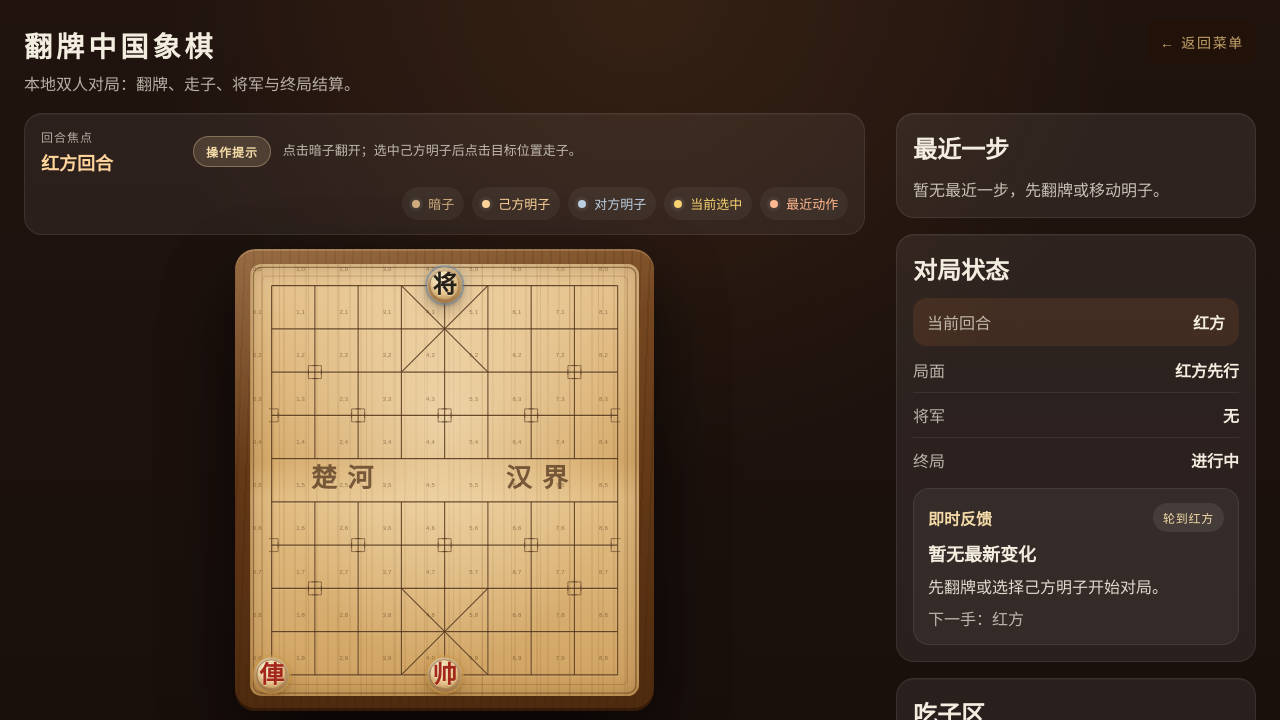
Test: interaction feedback › keeps rule-engine errors visible for illegal moves
What coordinates should you click on to do the following:
click the button with test id "cell-0-0"
I would click on:
 (272, 285)
Its box is [250, 264, 293, 307].
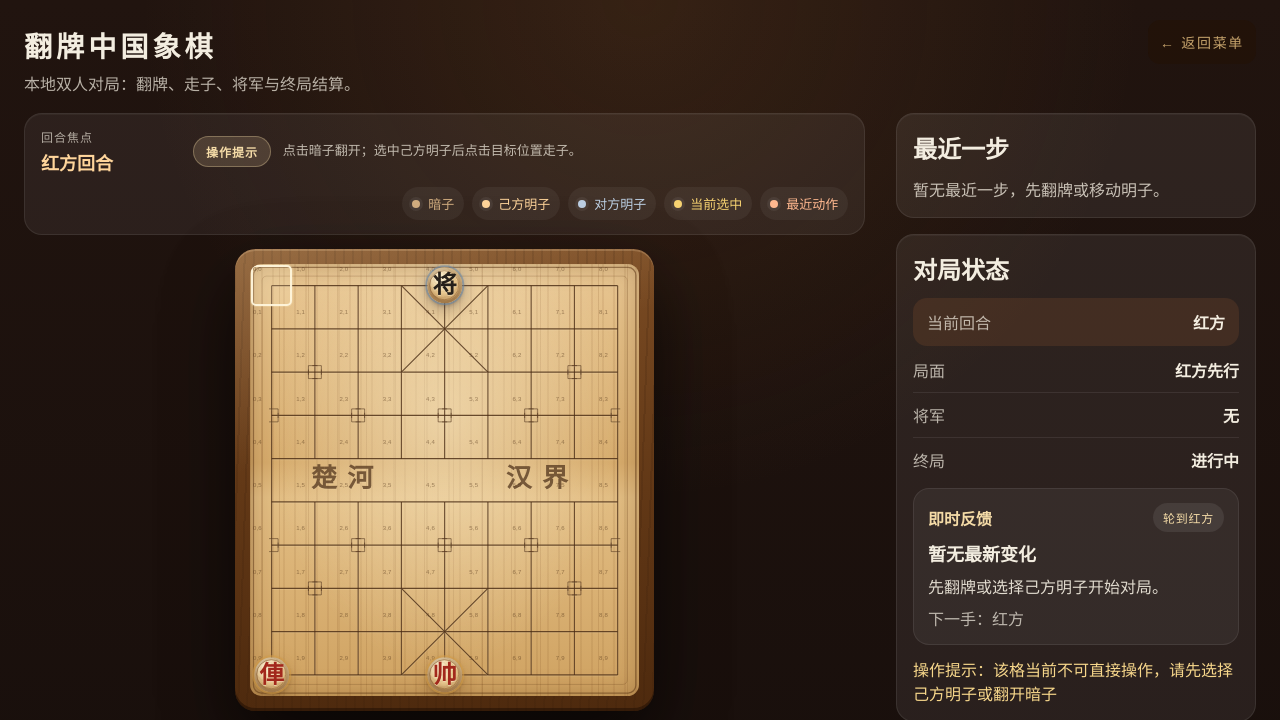
Expected: the text "操作提示：该格当前不可直接操作，请先选择己方明子或翻开暗子" is shown, [913, 657, 1239, 705]
What coordinates should you click on to do the following:
click the button with test id "cell-0-9"
I would click on:
 (272, 675)
Its box is [250, 653, 293, 696].
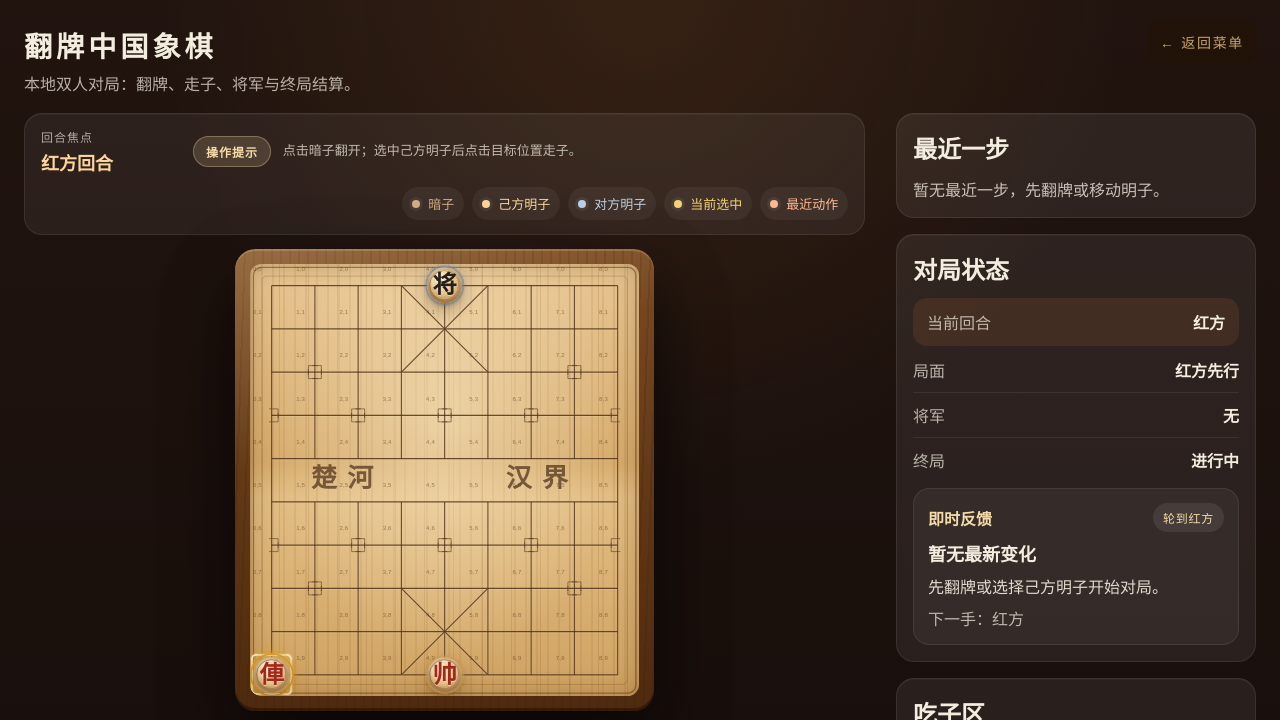
What coordinates should you click on to do the following:
click the button with test id "cell-1-8"
I would click on:
 (315, 631)
Its box is [293, 610, 336, 653].
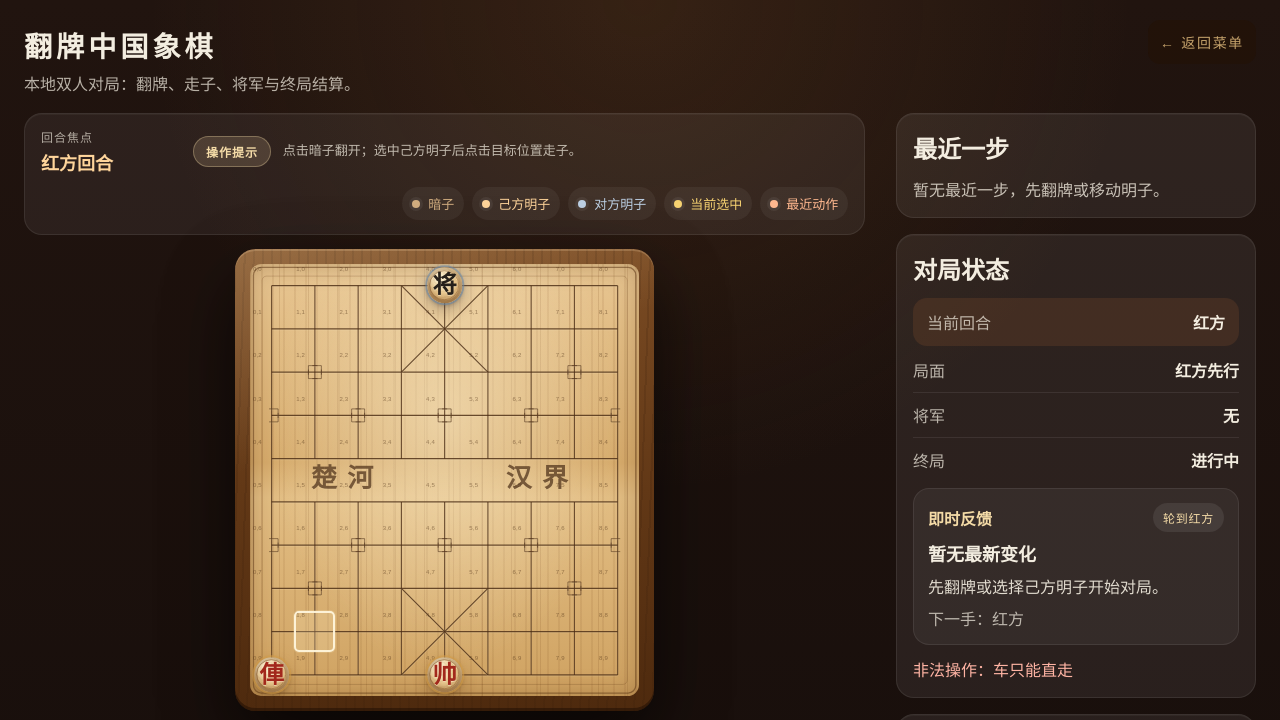
Expected: the text "操作提示：该格当前不可直接操作，请先选择己方明子或翻开暗子" is not shown
Expected: the text "非法操作：车只能直走" is shown, [913, 662, 1073, 679]
